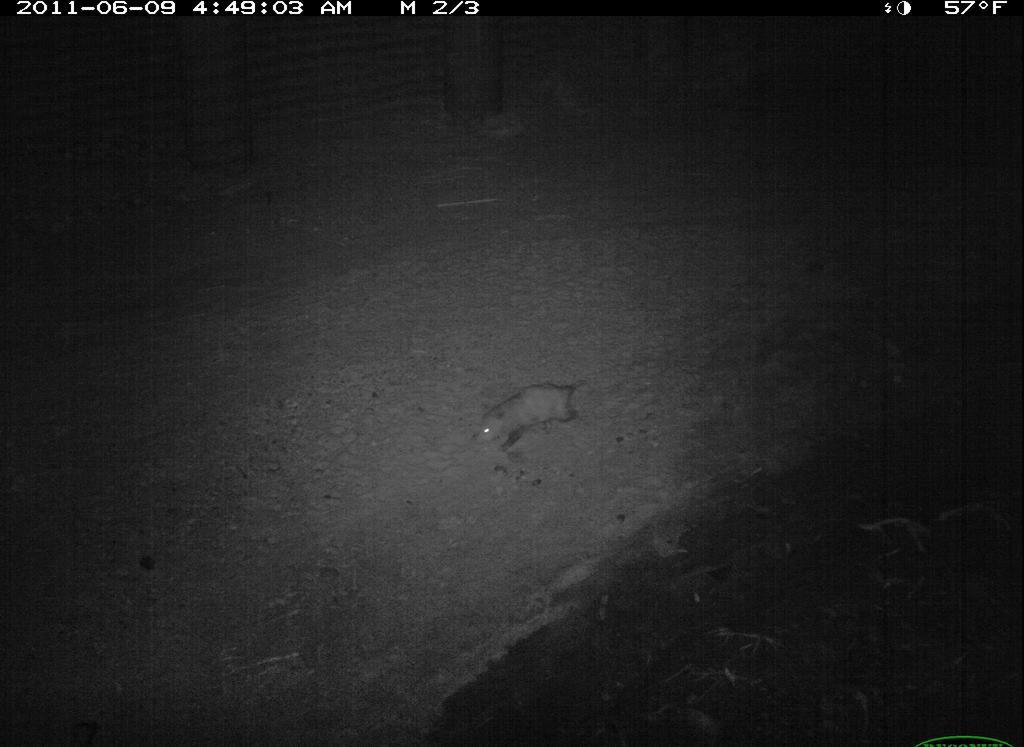opossum: (469, 372, 600, 466)
